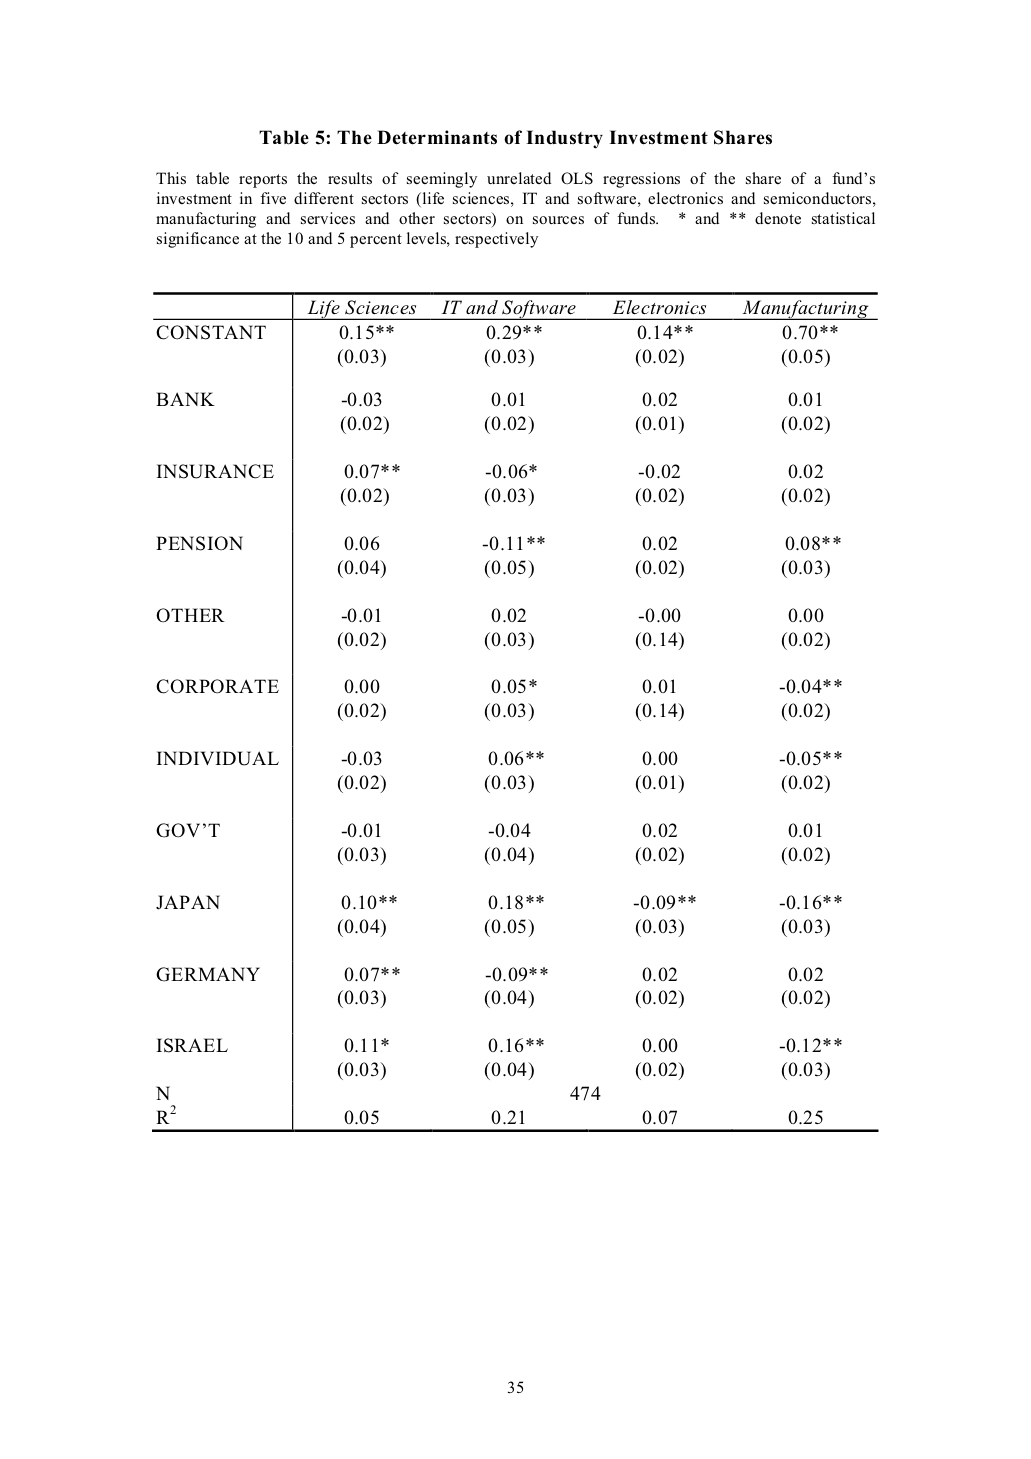Table: (152, 291, 878, 1132)
